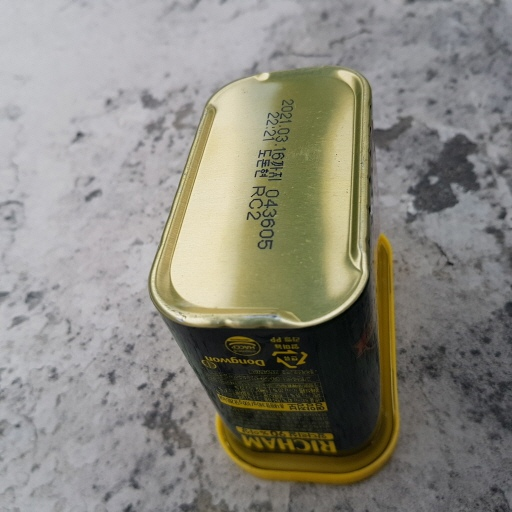Metal_2: (152, 68, 408, 484)
